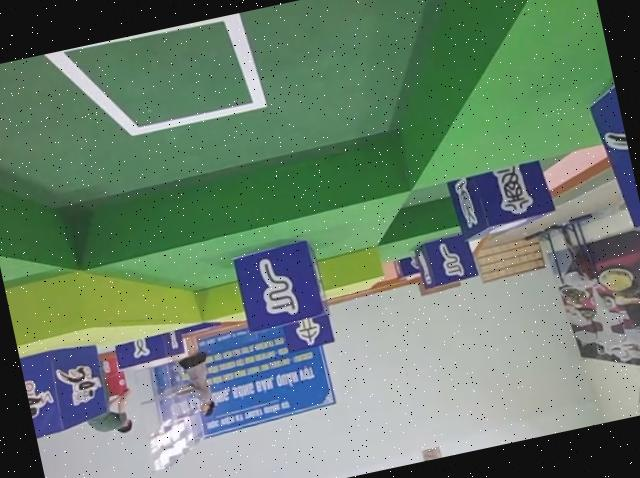R1 Blue: (578, 46, 640, 238), (18, 341, 108, 441)
R2 Fake Blue: (228, 235, 329, 333), (448, 155, 560, 240), (413, 230, 480, 290), (280, 311, 335, 353)
R2 Real Blue: (114, 325, 187, 367)
